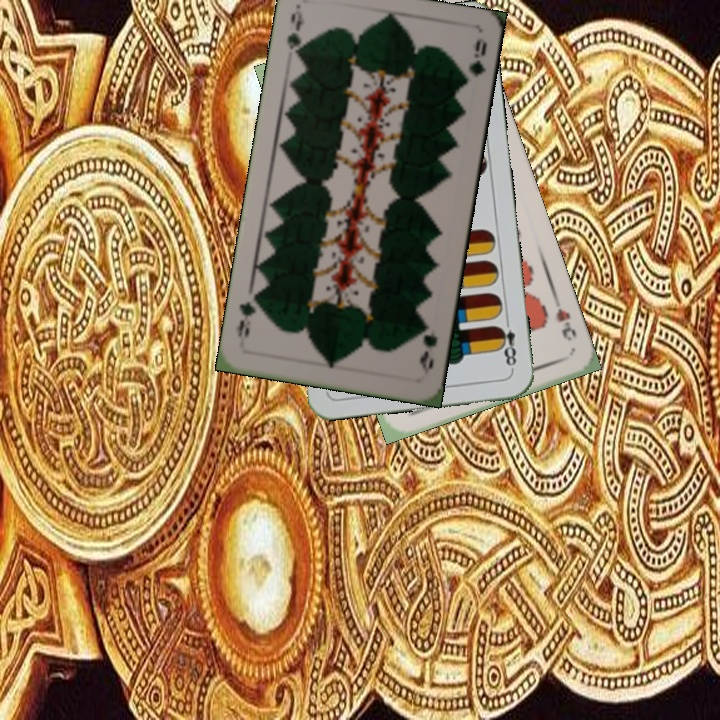E8: (493, 314, 519, 373)
G9: (415, 318, 440, 379), (283, 3, 307, 60)
H9: (550, 294, 579, 344)
